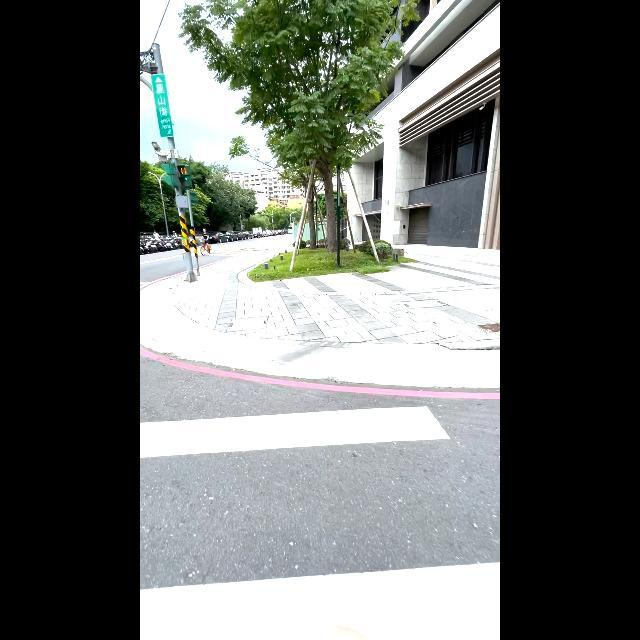sidewalk: (140, 346, 500, 640)
